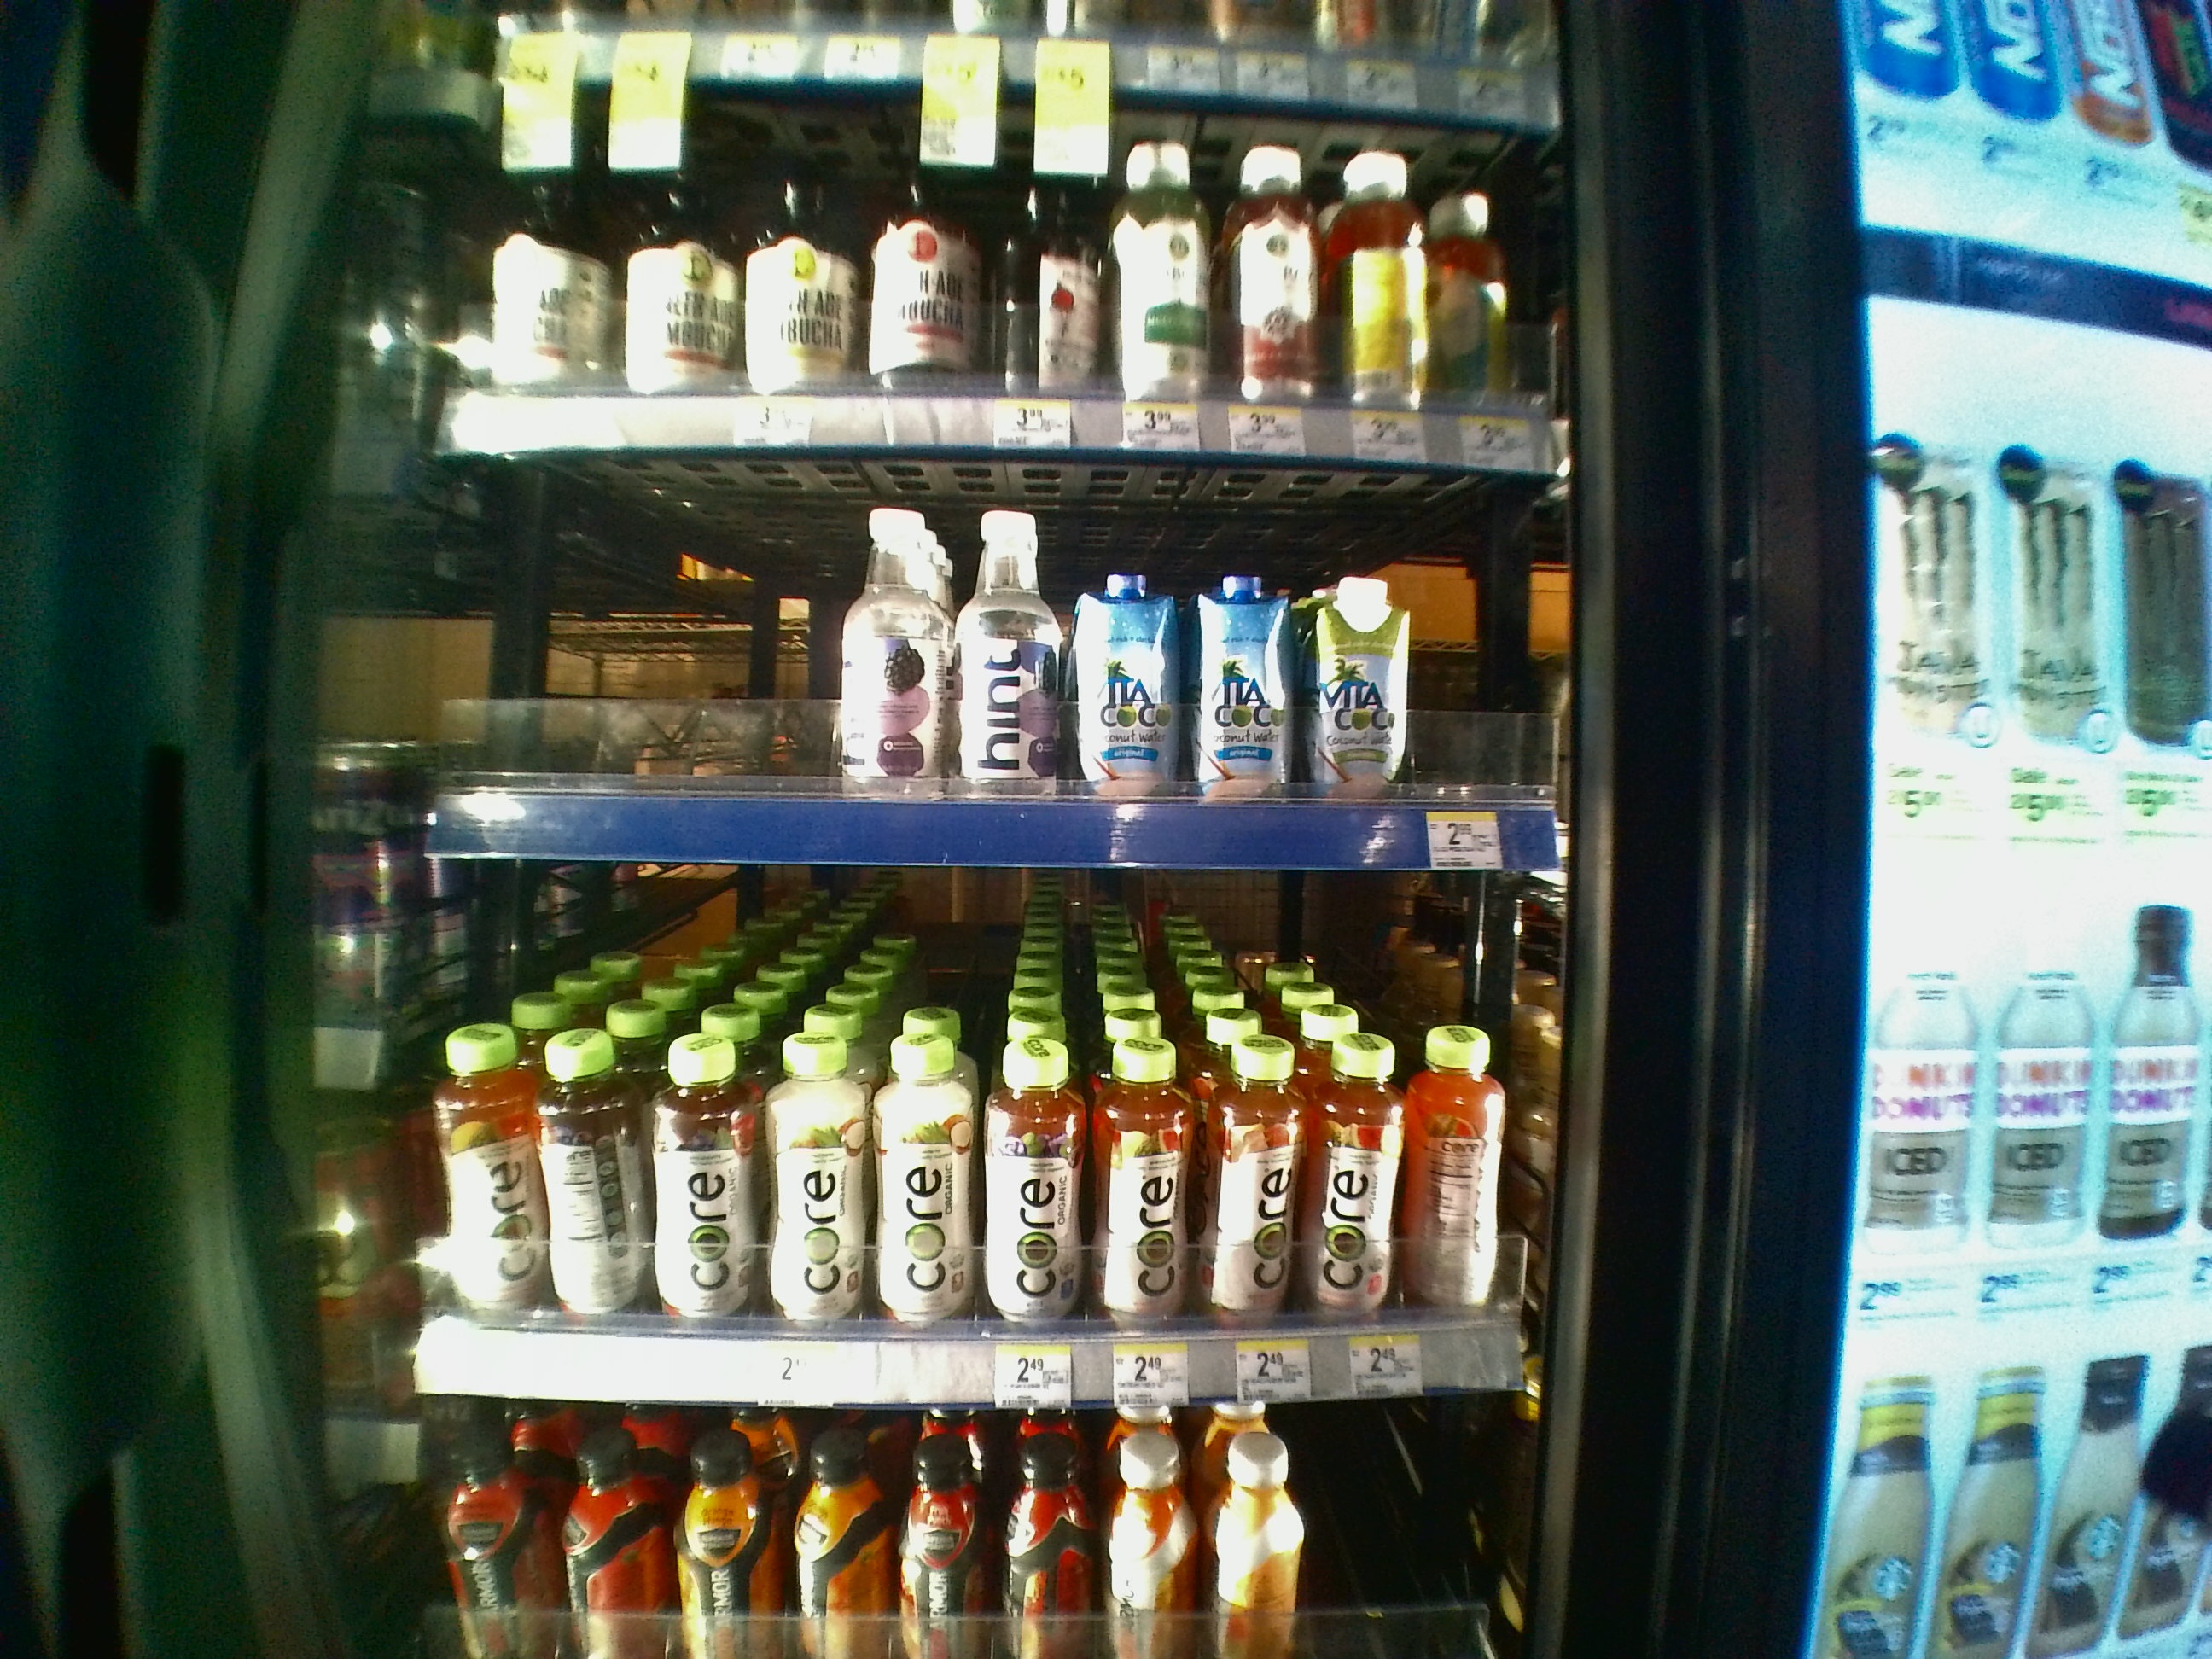shelf: (280, 856, 1585, 1401), (320, 453, 1590, 864)
